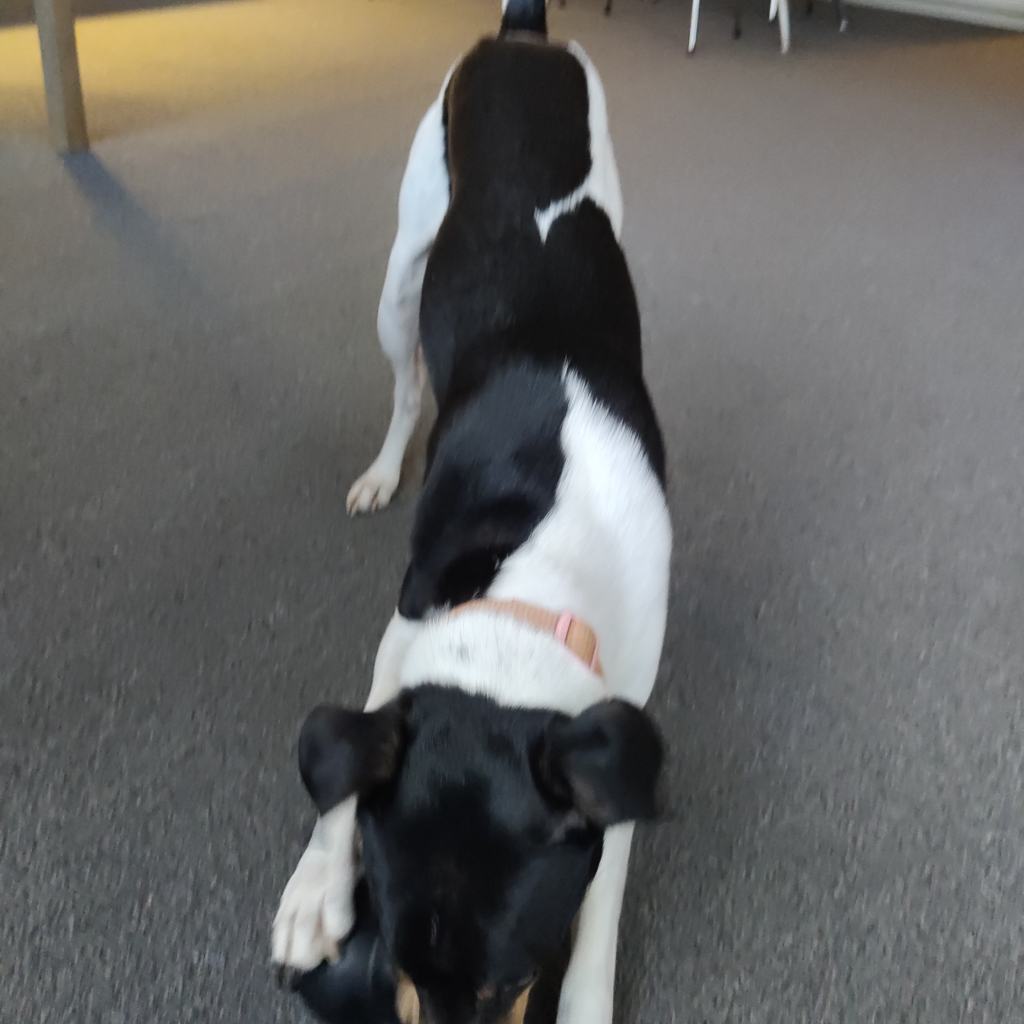Dog: (247, 0, 693, 1024)
